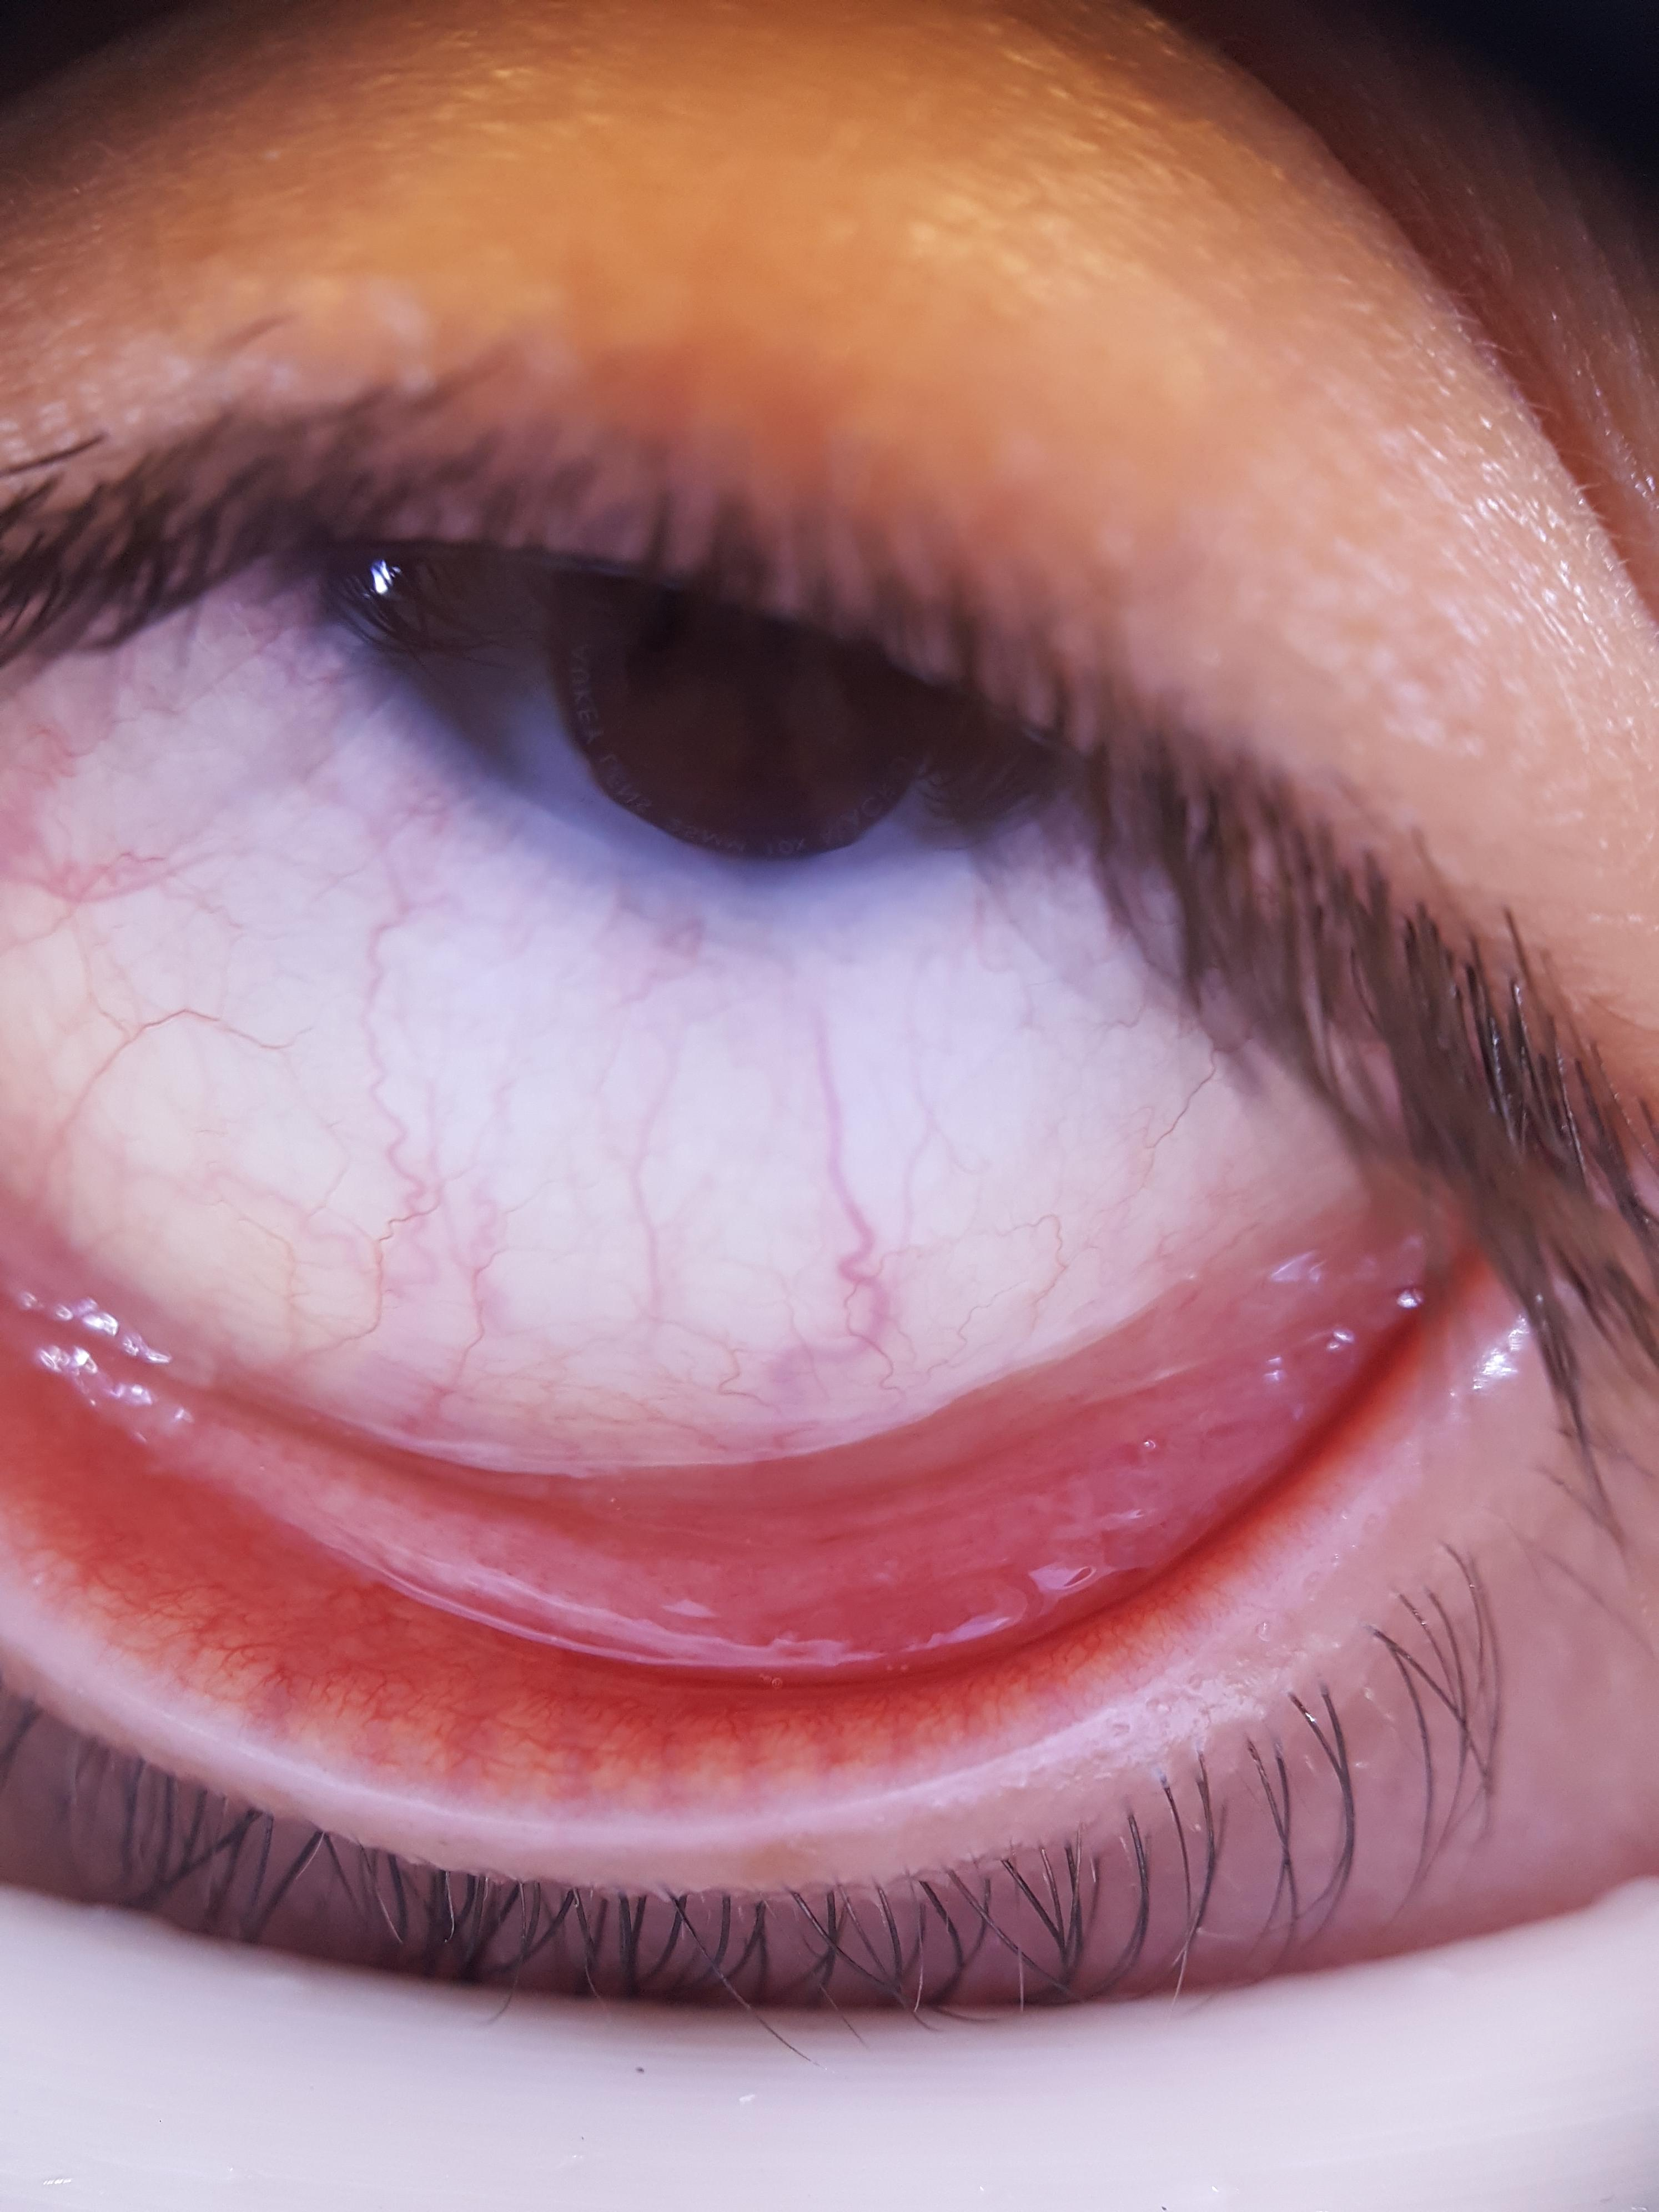forniceal: (0, 1202, 1413, 1674)
forniceal_palpebral: (0, 1197, 1436, 1796)
palpebral: (0, 1291, 1429, 1780)
